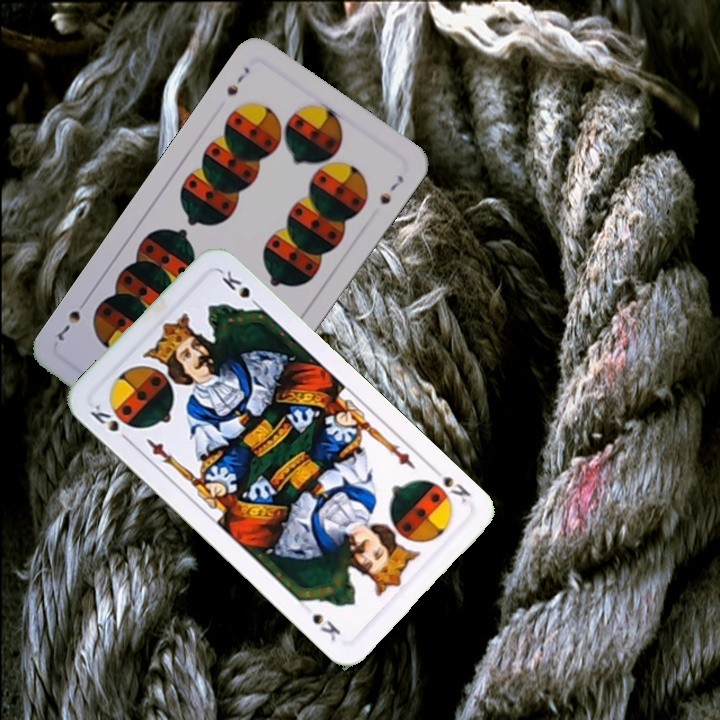S7: (222, 62, 253, 99)
SK: (85, 399, 134, 446), (439, 472, 474, 507)
